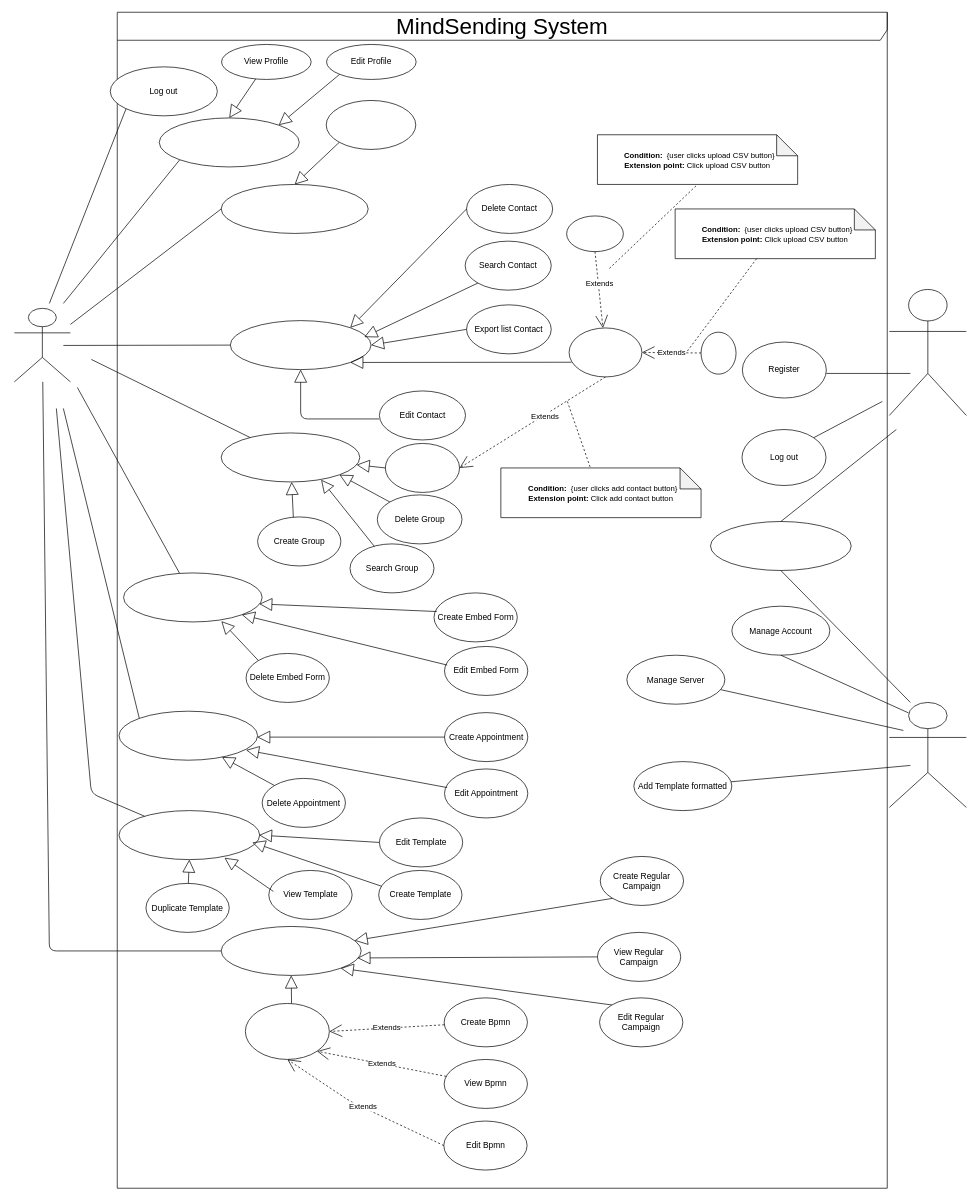
Some shapes in this 979 by 1201 pixel diagram are drawn without their labels. The shapes that lost their labels are listed below. From the top down, each one's centre as x and y in pixels, then its label:
At (x=229, y=142): "Manage Own Account".
At (x=371, y=124): "View Report".
At (x=294, y=208): "Manage Report".
At (x=594, y=233): "Upload CSV".
At (x=42, y=345): "Registered User".
At (x=300, y=345): "Manage Contact".
At (x=605, y=352): "Add Contact".
At (x=718, y=352): "Import Normal".
At (x=927, y=352): "Guest".
At (x=290, y=457): "Manage Group".
At (x=422, y=467): "Edit Group".
At (x=780, y=545): "Login".
At (x=192, y=597): "Manage Embed Form".
At (x=188, y=735): "Manage Appointment".
At (x=927, y=754): "Admin System".
At (x=189, y=835): "Manage Templates".
At (x=290, y=950): "Manage Campaign".
At (x=287, y=1031): "Manage Bpmn".
